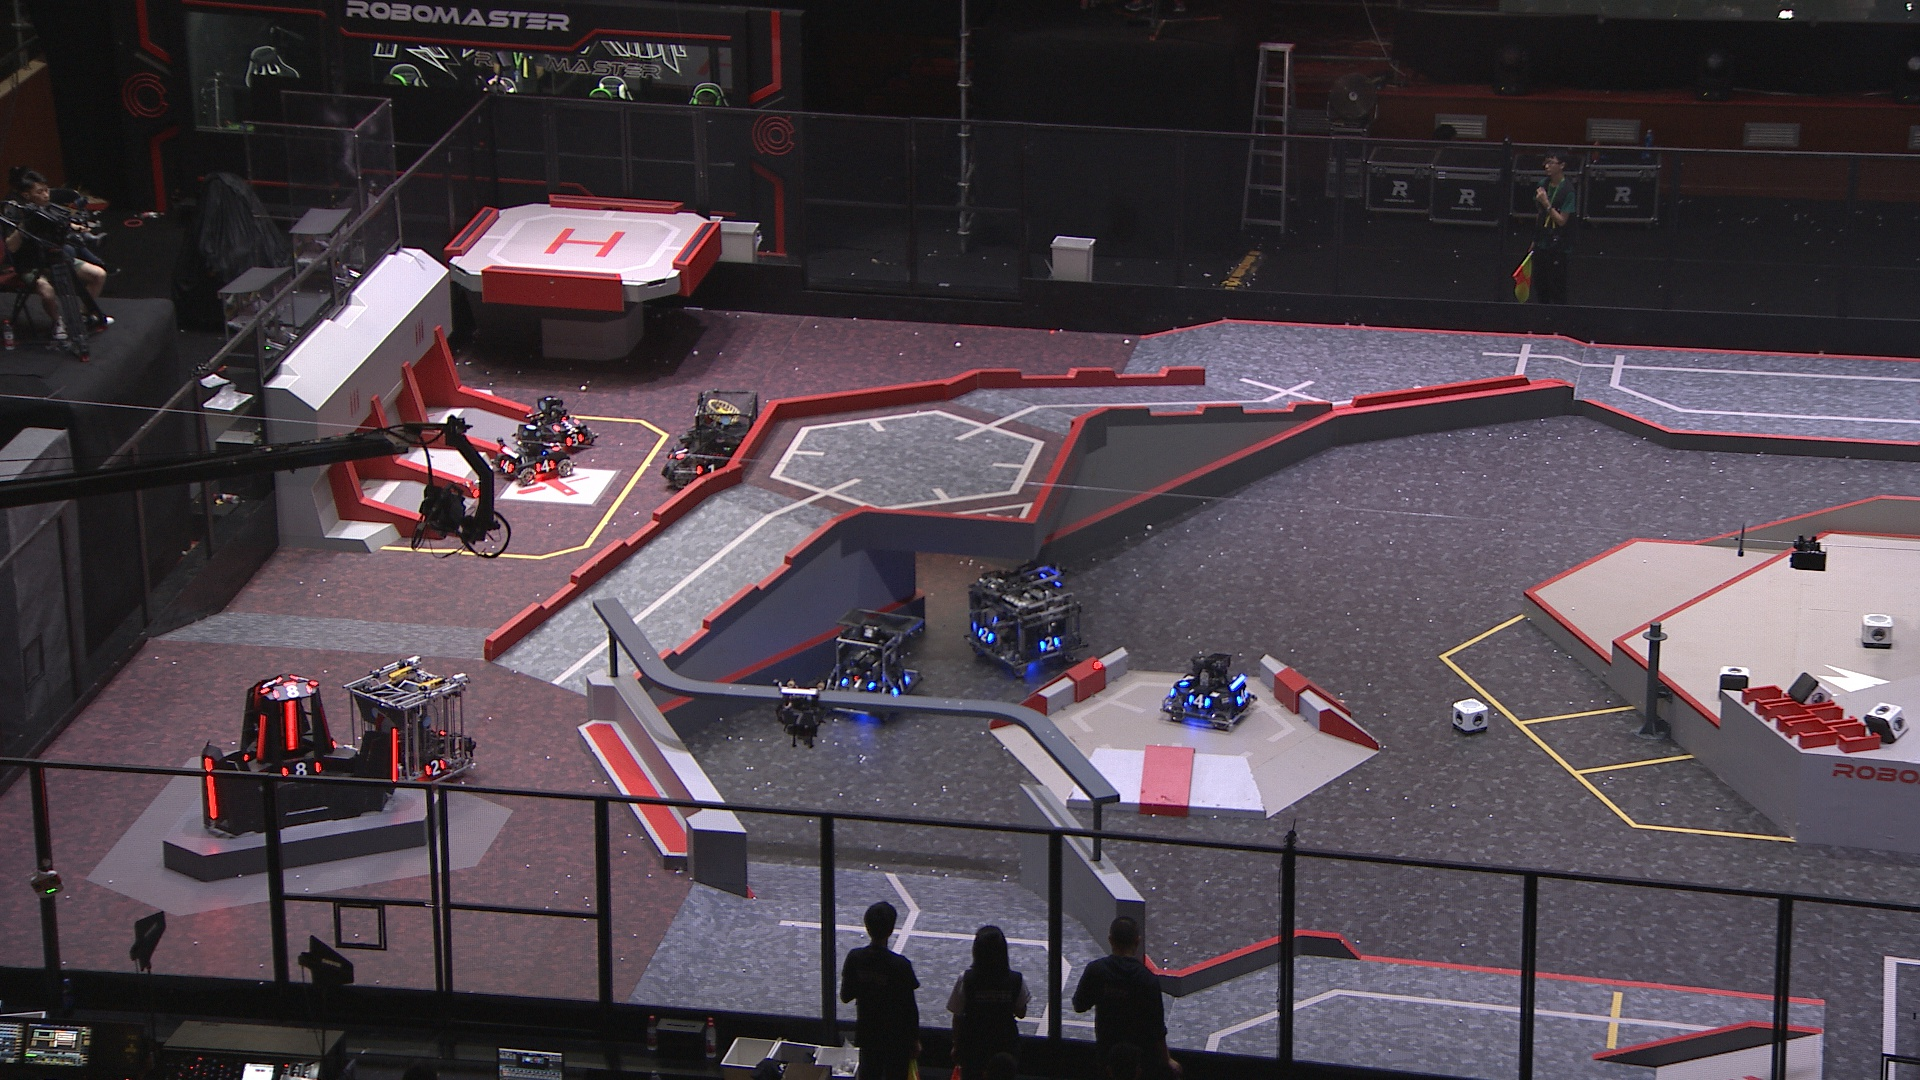armor: (204, 757, 220, 822), (386, 725, 401, 783), (285, 699, 301, 752), (278, 761, 323, 779), (272, 683, 313, 699), (779, 709, 816, 725), (419, 760, 447, 779), (256, 713, 266, 764), (839, 676, 878, 690), (1187, 692, 1215, 709), (1038, 636, 1062, 655), (889, 676, 910, 698), (550, 418, 582, 431), (257, 676, 281, 694), (975, 628, 998, 645), (694, 463, 719, 479), (535, 458, 558, 473), (564, 433, 585, 448), (673, 446, 690, 463), (1176, 673, 1196, 687), (542, 440, 564, 452), (500, 458, 516, 473), (1237, 688, 1250, 705)
base: (196, 671, 404, 841)
car: (343, 655, 476, 787), (963, 559, 1091, 678), (822, 609, 927, 717), (662, 386, 765, 496), (1162, 651, 1259, 728), (487, 419, 575, 487), (520, 396, 593, 455)
watcher: (771, 679, 831, 746)
